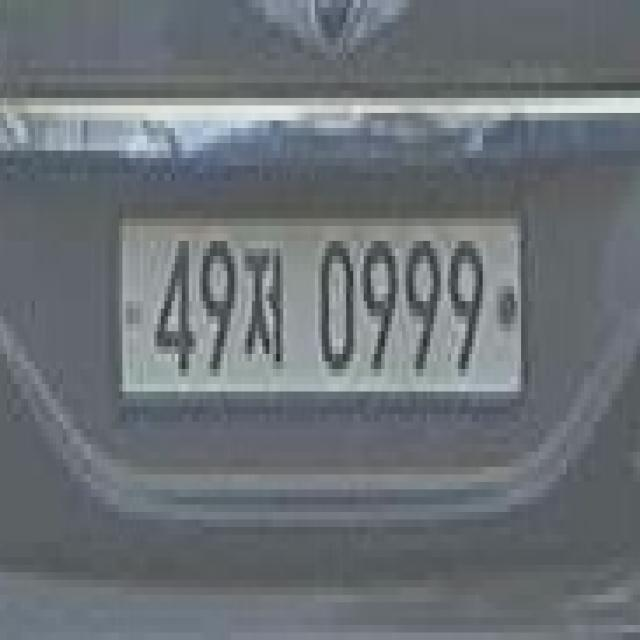0: (314, 233, 354, 379)
4: (150, 232, 196, 380)
9: (448, 234, 492, 384), (200, 234, 238, 380), (360, 232, 397, 376), (406, 238, 442, 382)
jeo: (242, 230, 289, 374)
license_plate: (108, 205, 530, 414)
